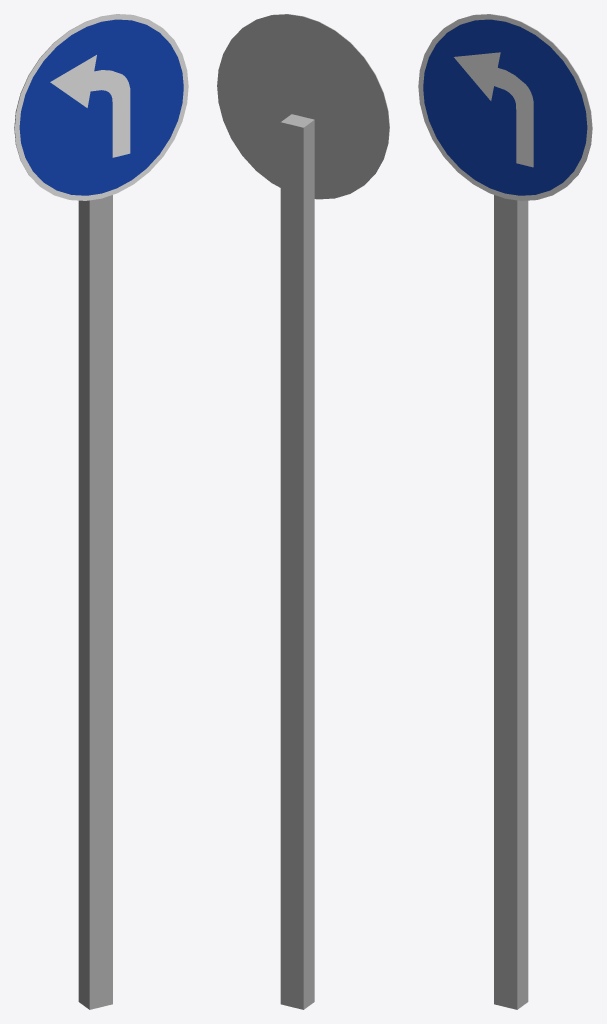
File: yesleft.DAE
3 views of the same model, side by side, from view 1: azimuth 30°, elevation 25°; view 2: azimuth 150°, elevation 25°; view 3: azimuth 330°, elevation 25° (orthographic).
Visible parts, largest first — view 1: solaFBXASC032dFBXASC195FBXASC182nFBXASC195FBXASC188FBXASC197; view 2: solaFBXASC032dFBXASC195FBXASC182nFBXASC195FBXASC188FBXASC197; view 3: solaFBXASC032dFBXASC195FBXASC182nFBXASC195FBXASC188FBXASC197.
Boxes of the visible parts, left/top/right/bottom form: solaFBXASC032dFBXASC195FBXASC182nFBXASC195FBXASC188FBXASC197: left=14, top=14, right=188, bottom=1009; solaFBXASC032dFBXASC195FBXASC182nFBXASC195FBXASC188FBXASC197: left=217, top=14, right=389, bottom=1009; solaFBXASC032dFBXASC195FBXASC182nFBXASC195FBXASC188FBXASC197: left=418, top=14, right=592, bottom=1009.
Size of the model in its own units: 17.72 by 96.46 by 2.05.
